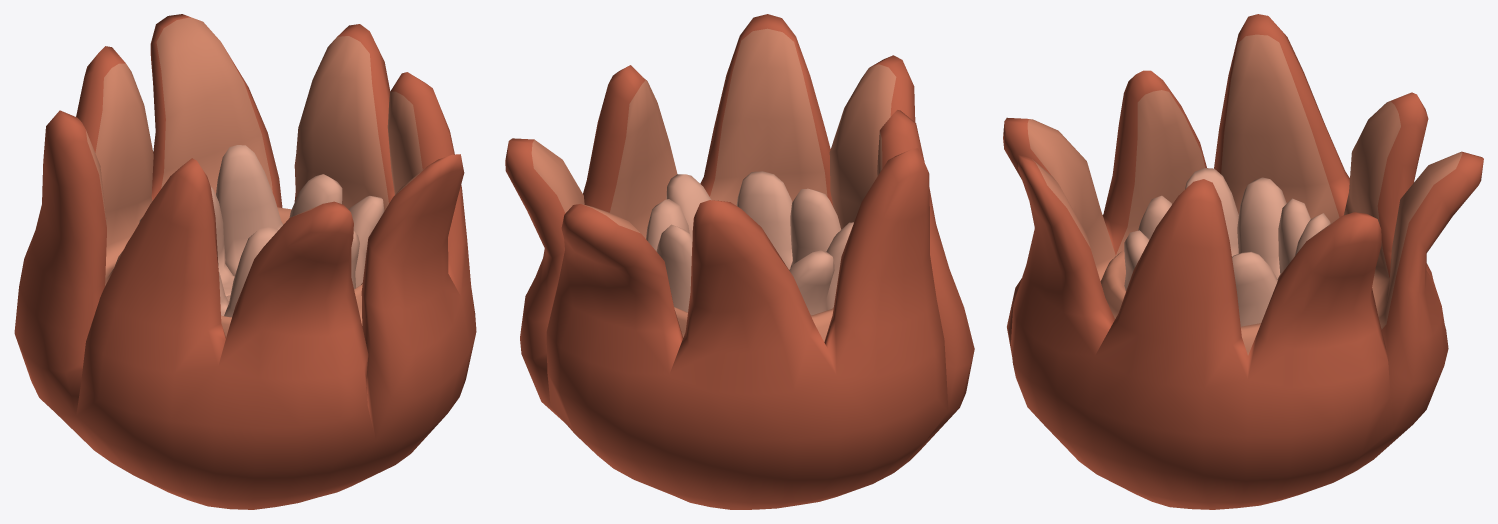
Rendered from Clover_A_03.fbx.
3 renders of one model, left to right at view 1: azimuth 30°, elevation 25°; view 2: azimuth 150°, elevation 25°; view 3: azimuth 270°, elevation 25°, orthographic. The views are drawn at different scales.
Visible parts, largest first — view 1: Clover_A_03_LOD0; view 2: Clover_A_03_LOD0; view 3: Clover_A_03_LOD0.
Part boxes in pixels (bbox=[...]): Clover_A_03_LOD0: bbox=[14, 14, 476, 509]; Clover_A_03_LOD0: bbox=[505, 14, 974, 509]; Clover_A_03_LOD0: bbox=[1003, 14, 1483, 509].
Size of what is drawn, in the model's own units: 512 by 478 by 549.
